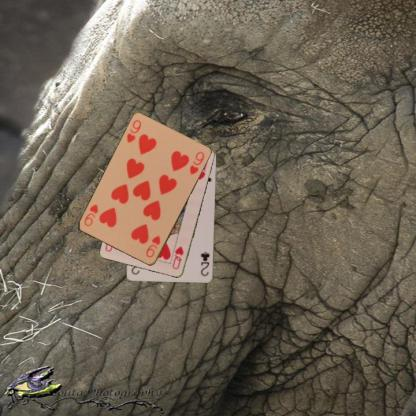2c: (199, 249, 211, 277)
9h: (143, 233, 162, 259), (124, 118, 143, 144)
Qh: (170, 244, 185, 271)
